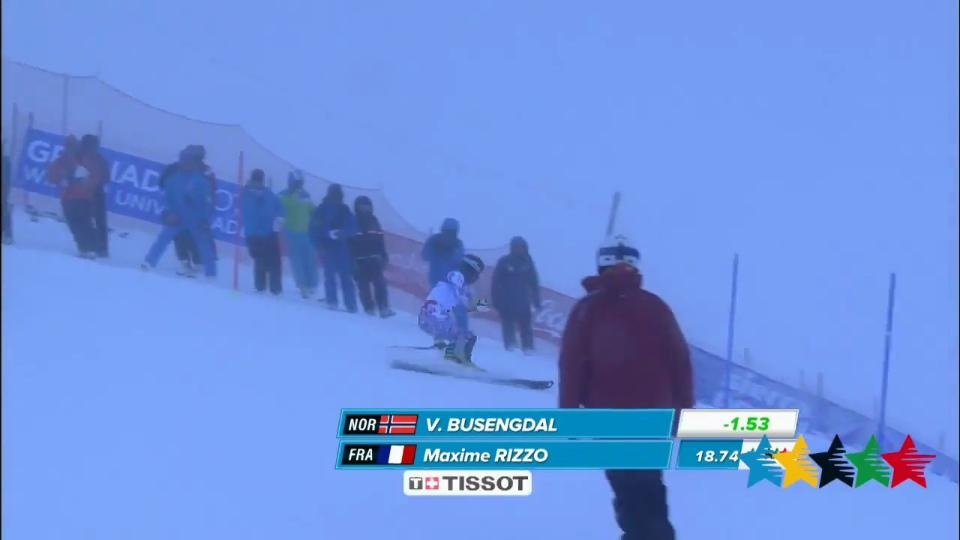gate: (866, 251, 909, 442), (723, 242, 751, 413)
